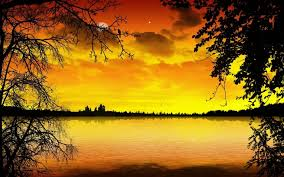sea: (42, 118, 262, 176)
sky: (61, 2, 224, 109)
tree: (6, 2, 58, 177), (231, 1, 283, 174)
